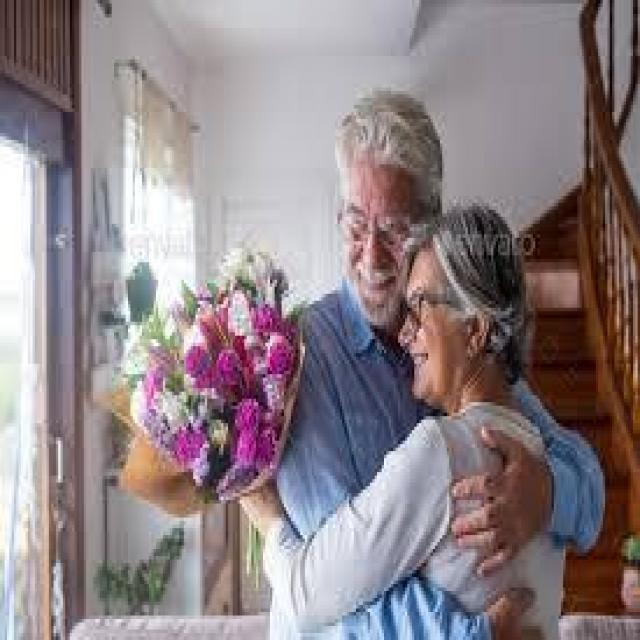organic waste: (215, 240, 250, 296), (264, 330, 295, 376), (126, 372, 151, 428), (211, 355, 250, 390), (254, 425, 282, 470), (230, 290, 254, 336), (234, 428, 259, 471), (179, 344, 212, 376), (186, 440, 210, 482), (256, 245, 275, 294), (159, 315, 178, 346)
